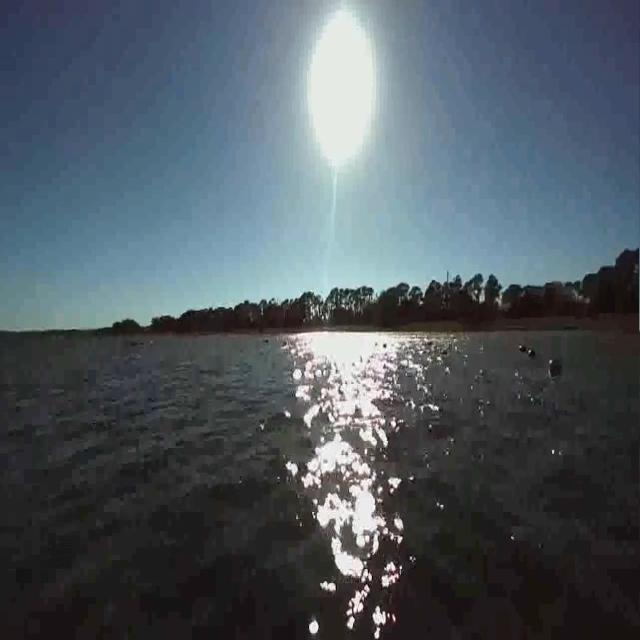black-buoy: (550, 355, 564, 376)
